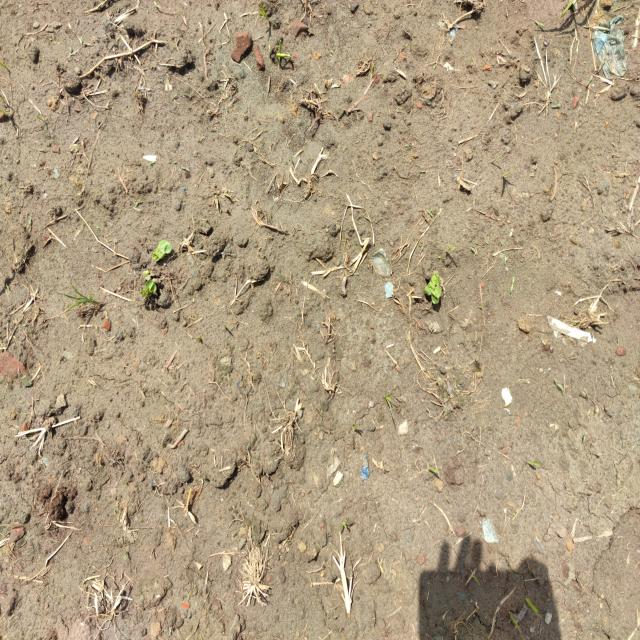seedling: (431, 286, 442, 304), (158, 240, 172, 254), (155, 245, 166, 259), (424, 282, 435, 296), (146, 281, 157, 294), (431, 274, 440, 285), (152, 253, 160, 261)
